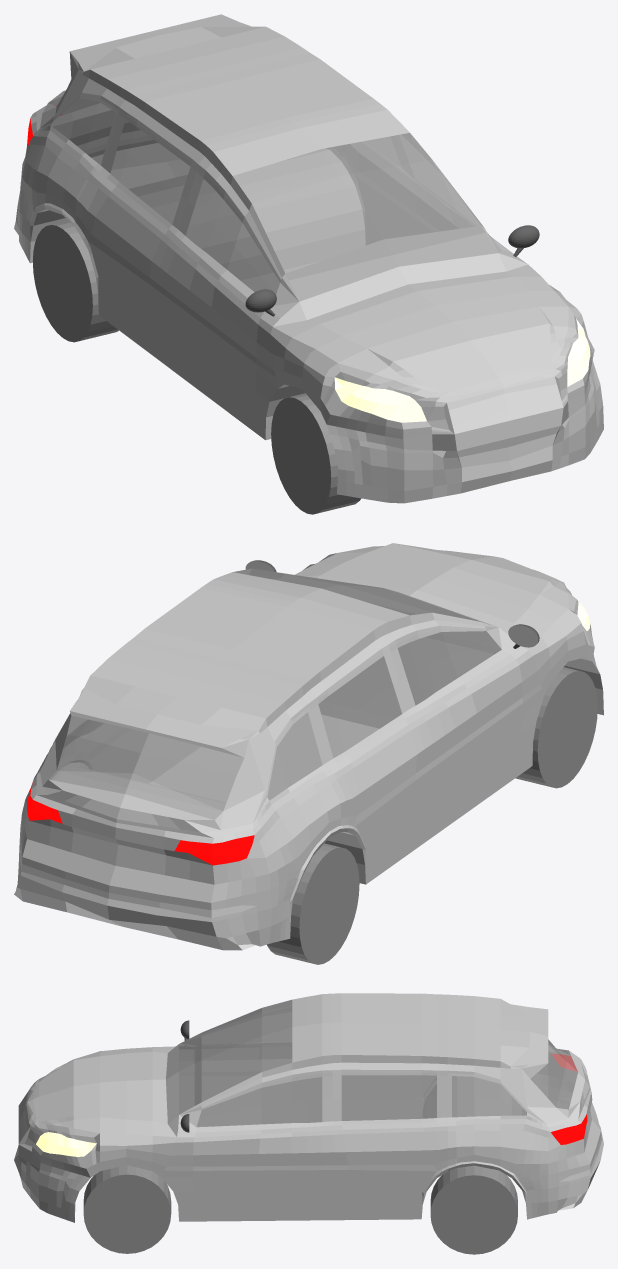
3 views of the same model, one above another, from view 1: azimuth 30°, elevation 25°; view 2: azimuth 150°, elevation 25°; view 3: azimuth 270°, elevation 25° (orthographic). The views are drawn at different scales.
Parts seen in each view (by area): view 1: Cube, Cylinder.001, Cylinder.002, Sphere; view 2: Cube, Cylinder.002, Cylinder.001, Sphere; view 3: Cube, Cylinder.003, Cylinder.
Boxes of the visible parts, left/top/right/bottom form: Cube: left=14, top=14, right=603, bottom=503; Cylinder.001: left=271, top=393, right=361, bottom=514; Cylinder.002: left=32, top=220, right=118, bottom=342; Sphere: left=245, top=225, right=539, bottom=316; Cube: left=14, top=543, right=603, bottom=950; Cylinder.002: left=267, top=843, right=359, bottom=964; Cylinder.001: left=515, top=667, right=597, bottom=788; Sphere: left=245, top=560, right=539, bottom=648; Cube: left=14, top=993, right=603, bottom=1222; Cylinder.003: left=430, top=1165, right=517, bottom=1254; Cylinder: left=83, top=1165, right=171, bottom=1253.
Bounding box in the file's own units: 281 × 234 × 674.
